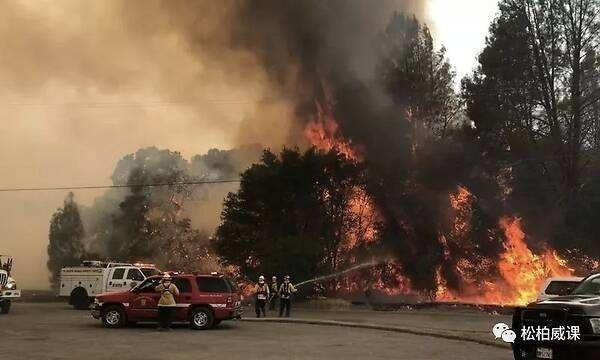fire: (433, 181, 577, 309)
